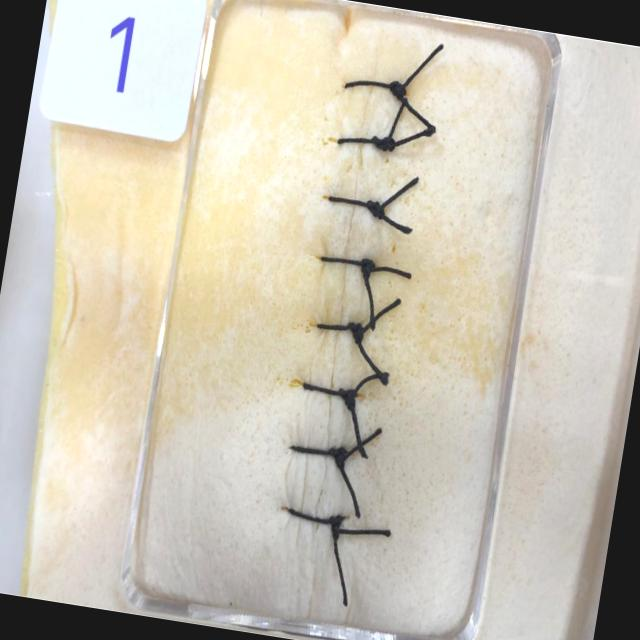knot: (339, 389, 356, 411), (366, 201, 385, 220), (372, 137, 395, 152), (329, 448, 346, 468), (390, 81, 407, 101), (348, 323, 363, 344), (330, 517, 343, 541), (360, 260, 375, 279)
leftover: (397, 41, 445, 92), (354, 329, 389, 387), (393, 85, 437, 130), (374, 175, 421, 211), (358, 297, 403, 334), (333, 453, 359, 516), (345, 393, 366, 461), (341, 427, 384, 460), (332, 521, 347, 610), (384, 94, 408, 145), (349, 370, 391, 399), (374, 205, 412, 236), (334, 521, 393, 537), (363, 263, 375, 333), (393, 127, 436, 145), (371, 264, 413, 280)
stitch: (286, 508, 343, 528), (326, 195, 387, 213), (289, 444, 349, 461), (301, 383, 357, 400), (342, 80, 409, 94), (318, 256, 377, 270), (315, 323, 366, 335), (335, 138, 397, 145)
wound: (306, 47, 382, 615)
